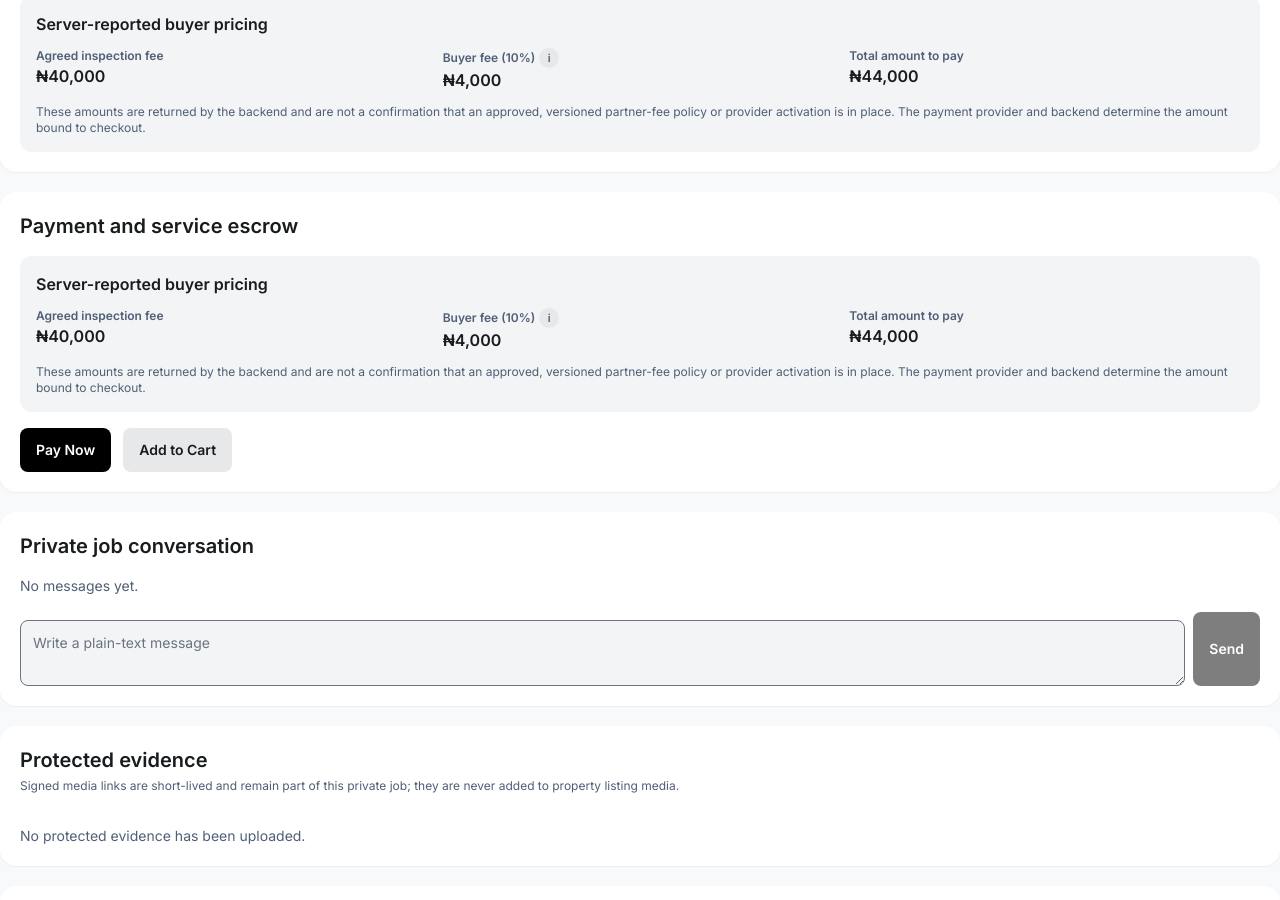
it: ProxyWorkspace pricing display › preserves a checkout reference without a redirect and offers status verification instead of retry
(page scrolled)
Click the button "Pay Now".
click(66, 450)  # box [20, 428, 111, 472]
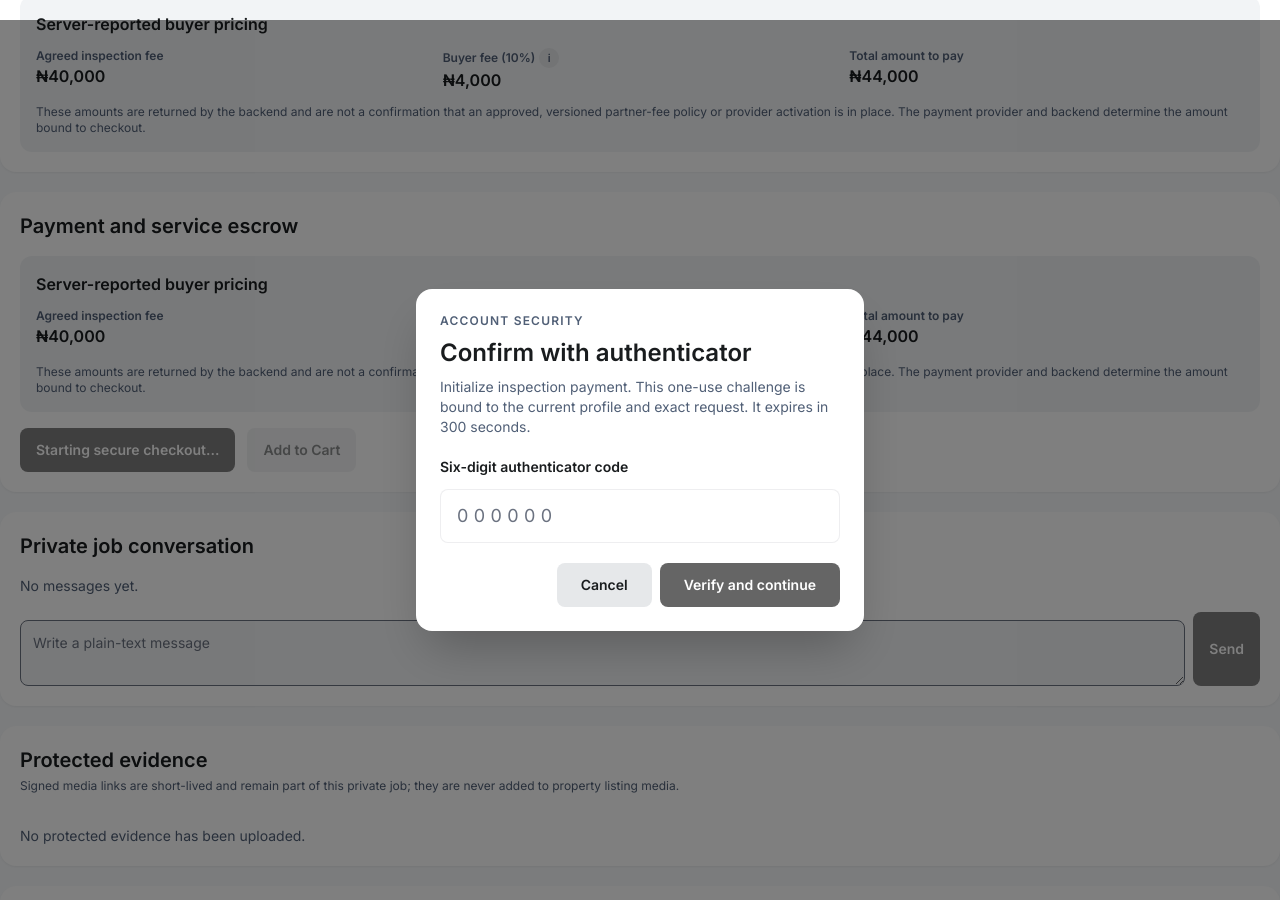
Type "123456" into the field labelled "Six-digit authenticator code".
click(640, 516); type("123456")  # box [440, 489, 840, 543]
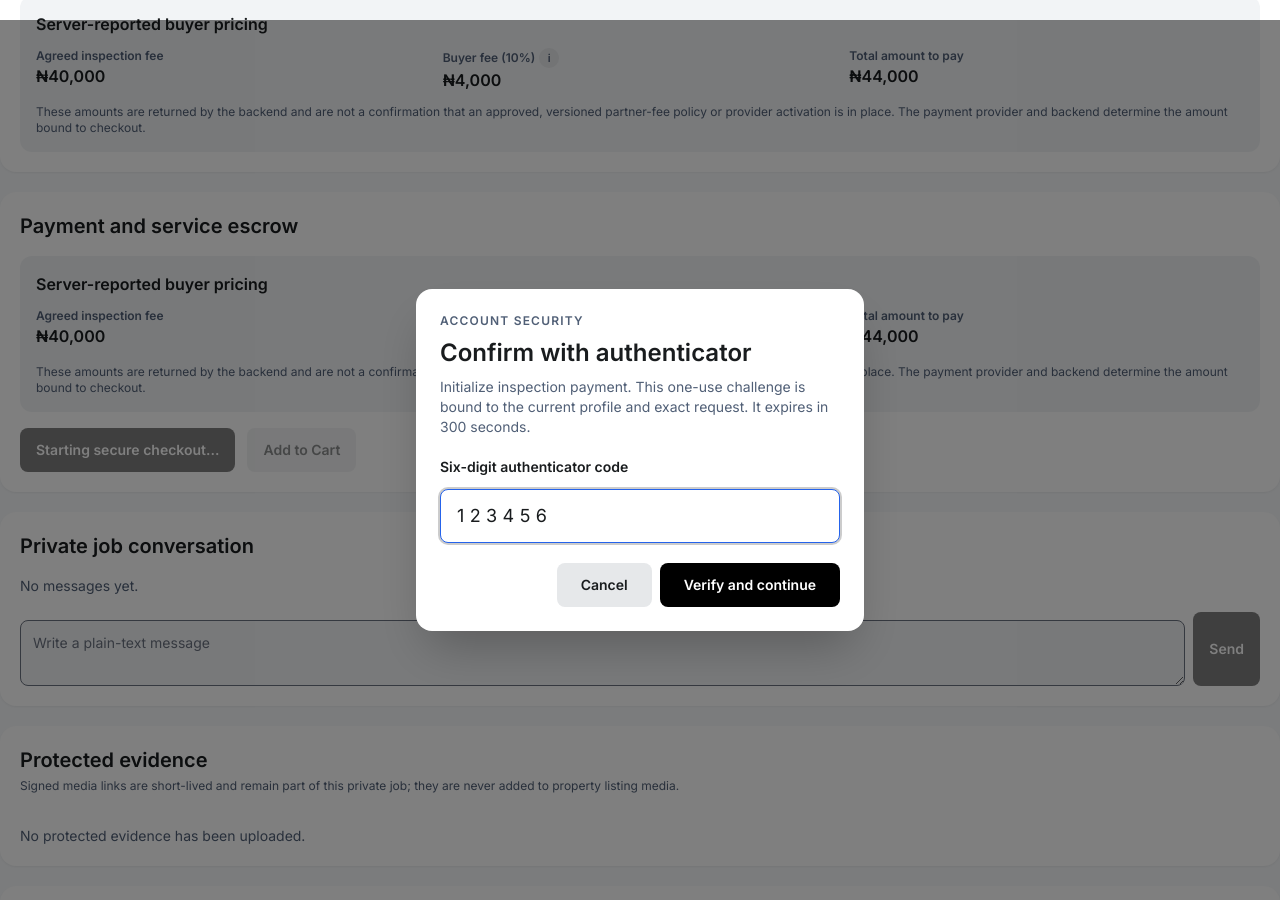
Click the button "Verify and continue".
click(750, 585)  # box [660, 563, 840, 607]
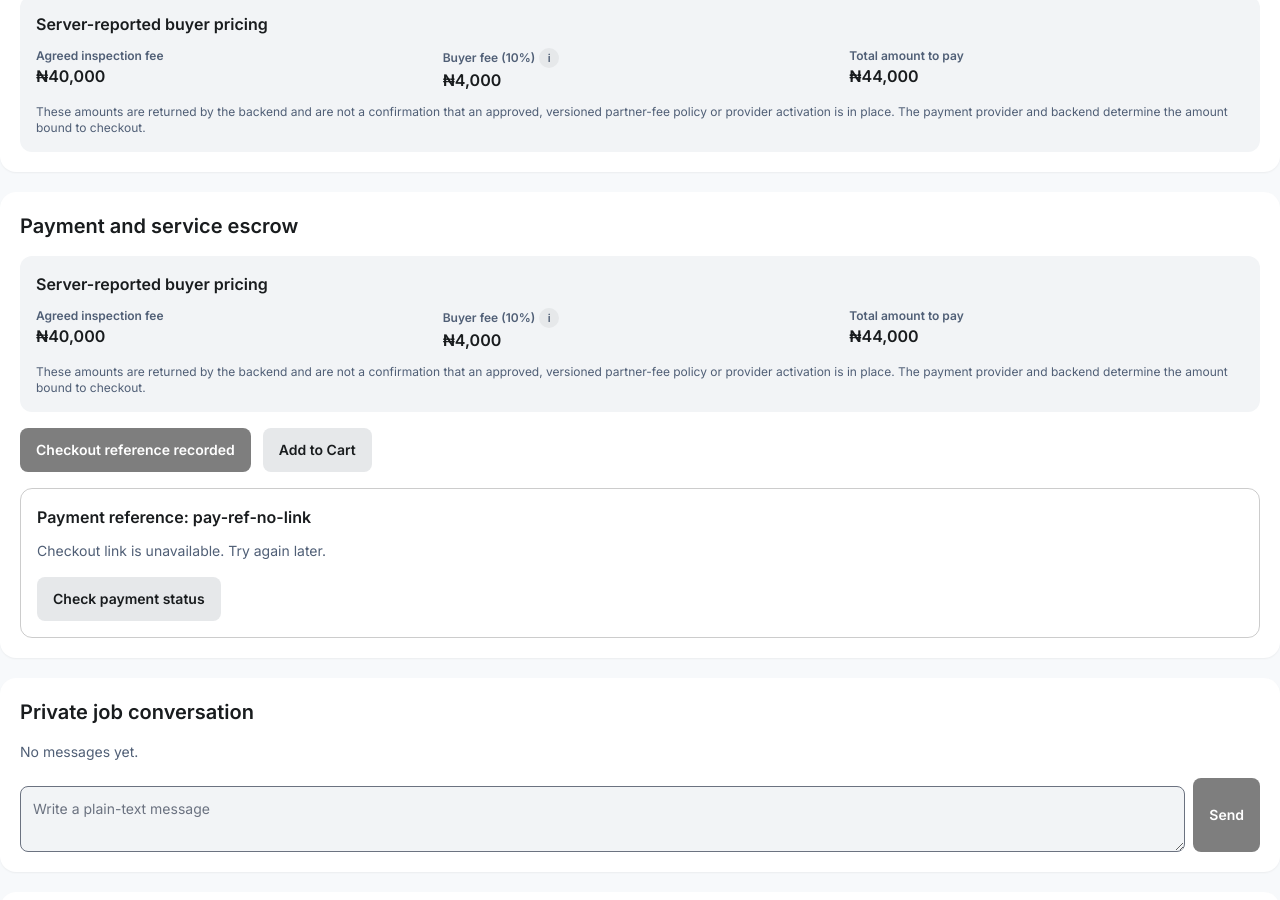
Expected: the message reads "Checkout link is unavailable. Try again later.", [37, 542, 326, 559]
Expected: the text "Payment reference: pay-ref-no-link" is shown, [37, 507, 311, 527]
Click the button "Check payment status".
click(129, 599)  # box [37, 577, 221, 621]
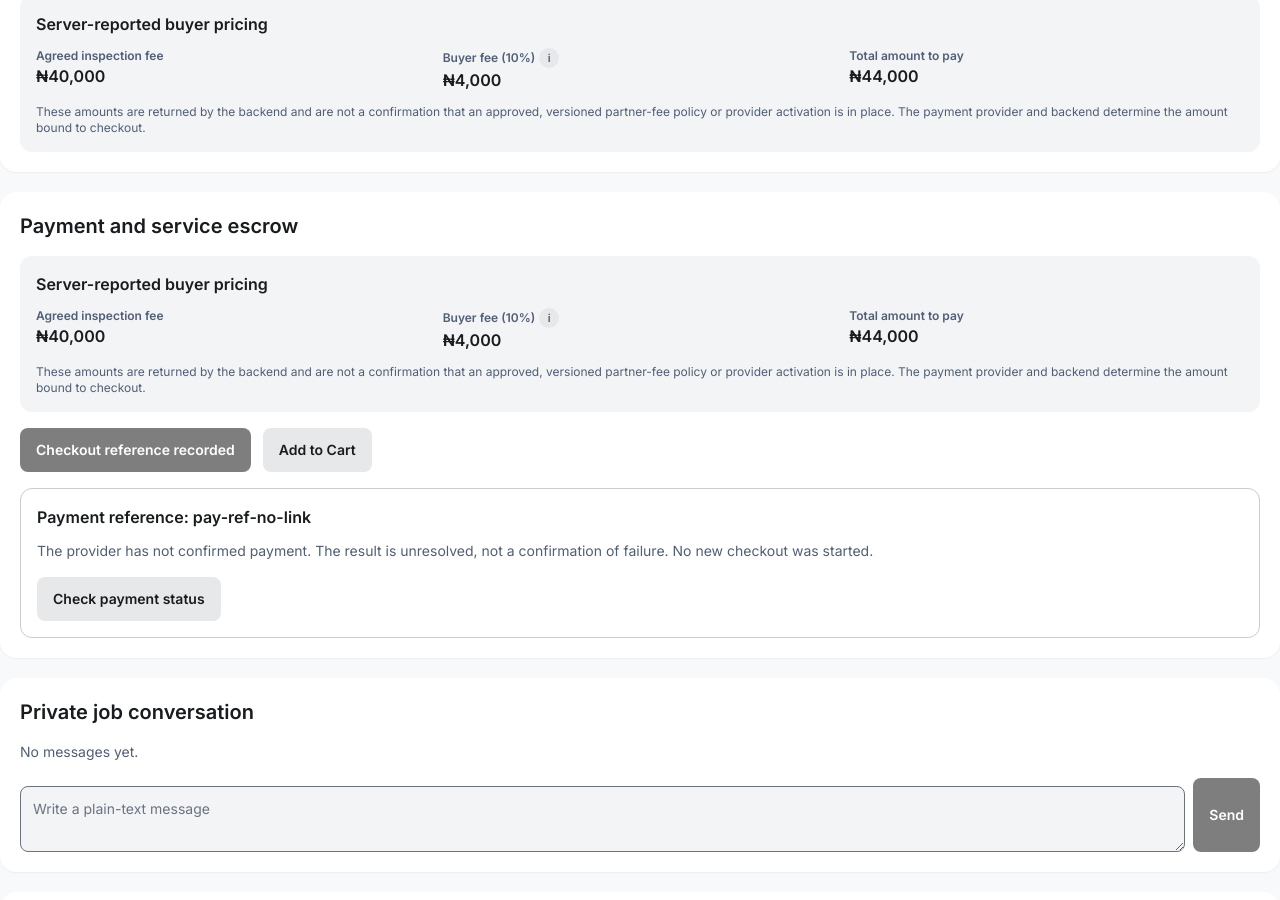
Expected: the text "No new checkout was started" is shown, [37, 542, 873, 559]
